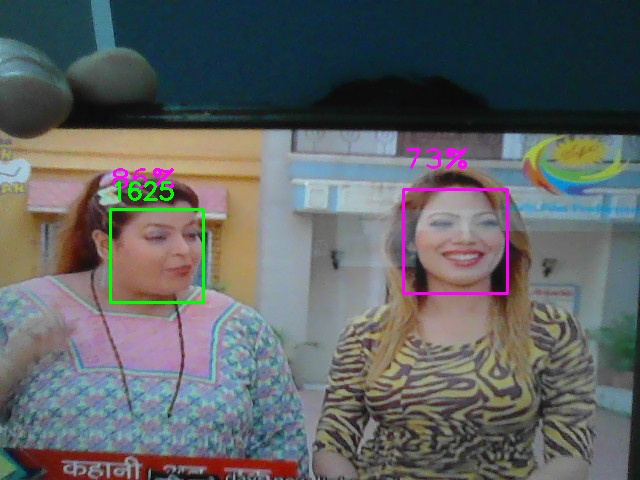fake: (110, 209, 204, 303)
